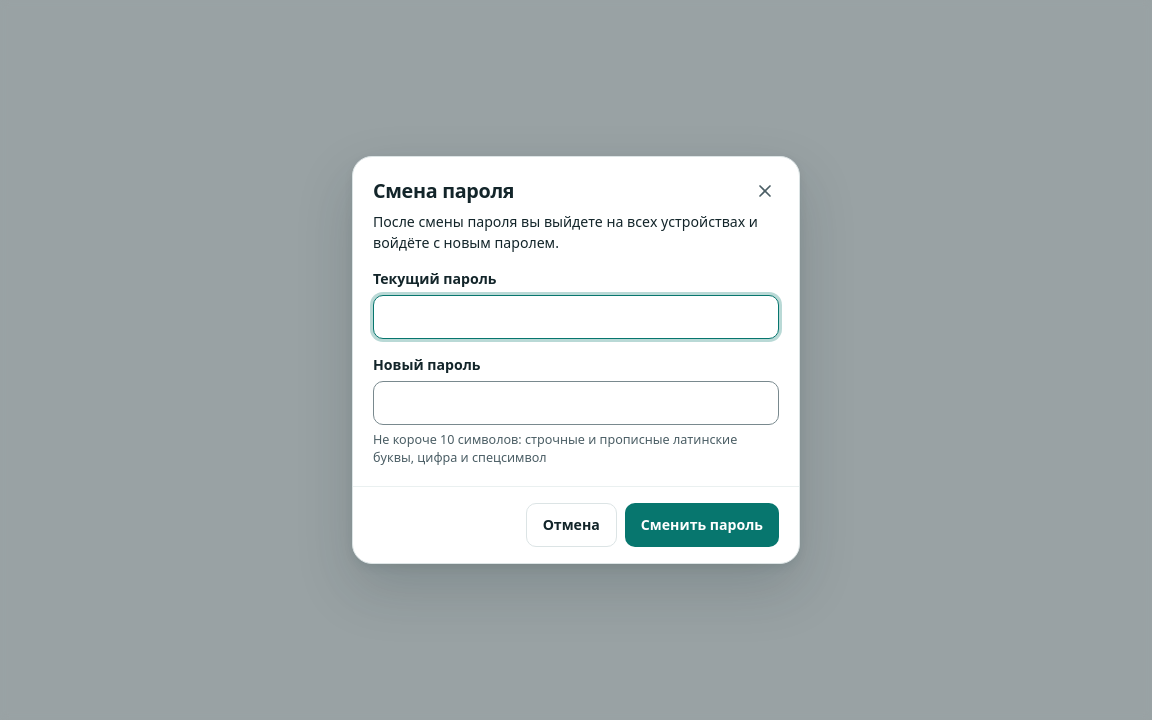
Test: ChangePasswordDialog › should say the current password is wrong and keep the session when the server answers 403
Type "Wrong!Pass1" into the password field labelled "Текущий пароль" at coordinates (576, 317), box [373,295,779,339]
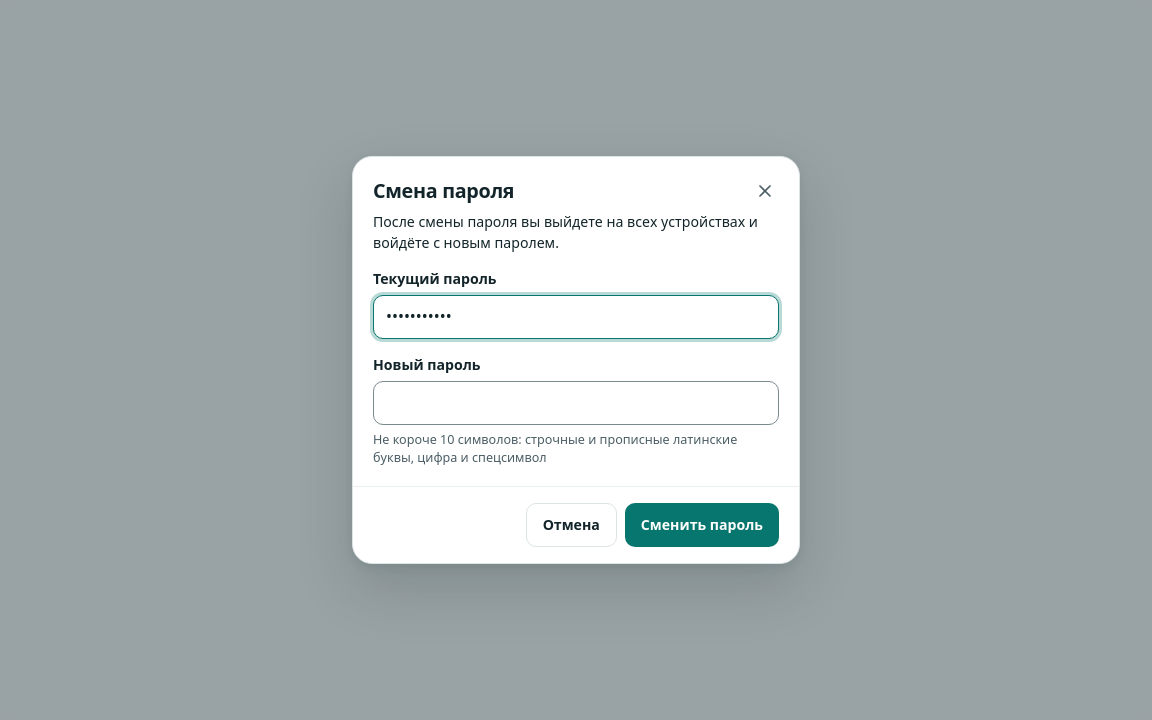
Type "N3w!Password" into the password field labelled "Новый пароль" at coordinates (576, 403), box [373,381,779,425]
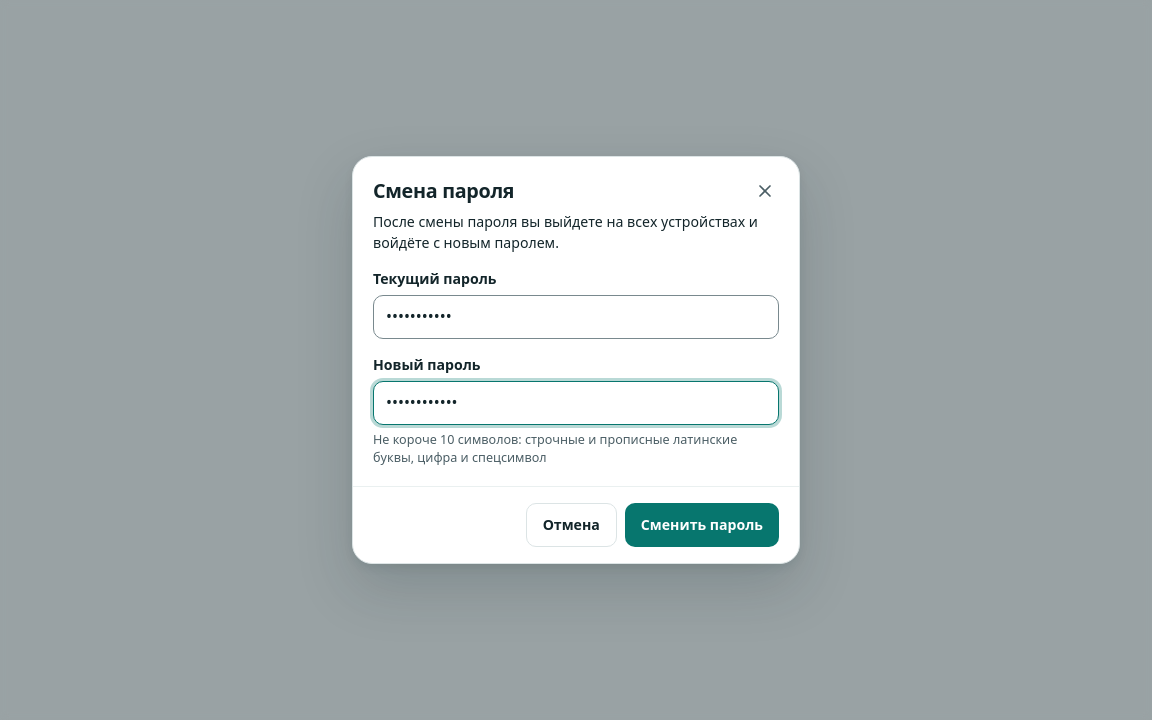
Click the button "Сменить пароль" at coordinates (702, 525), box [625,503,779,547]
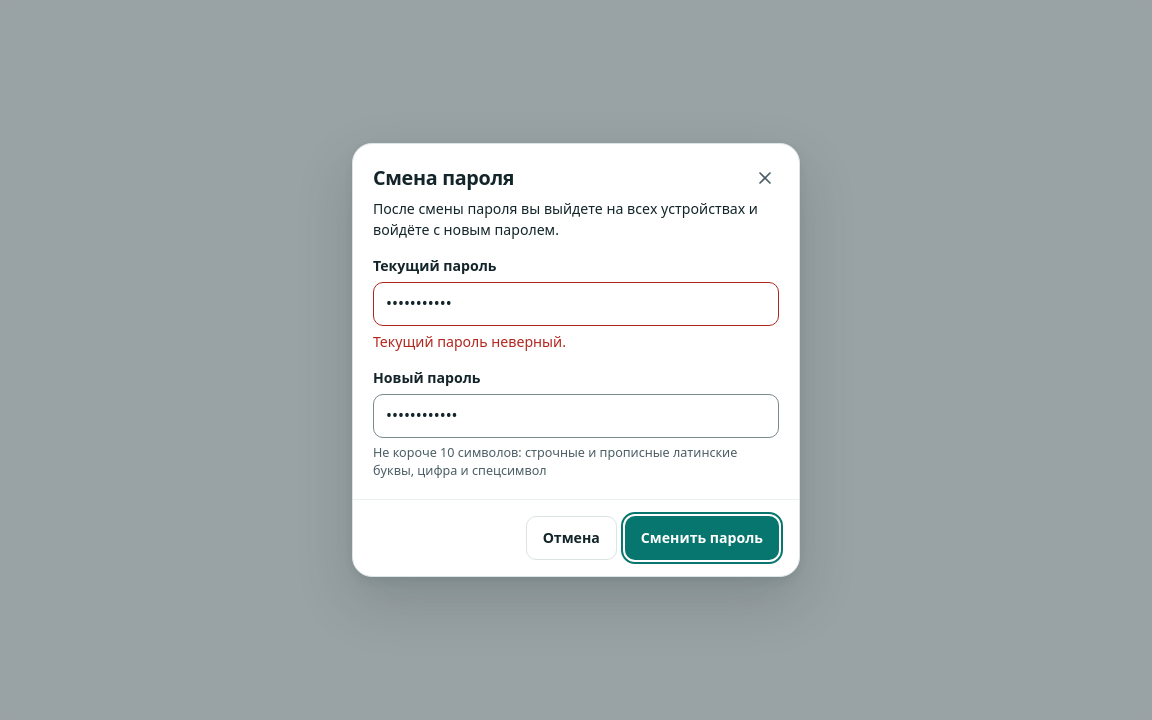
expect the text "Текущий пароль неверный." is shown: met, box [373,332,566,351]
